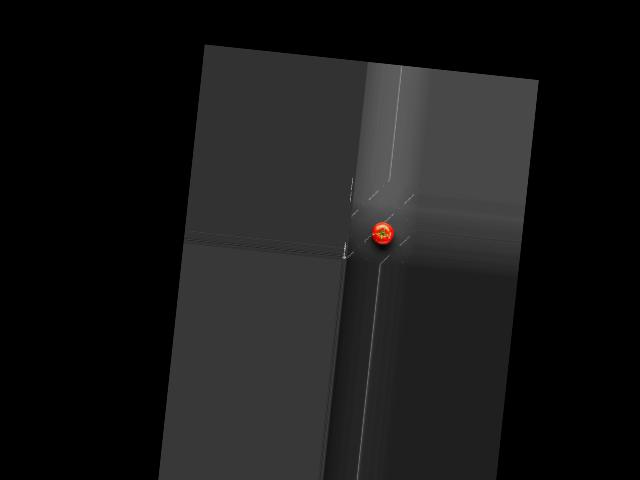tomato: (370, 220, 394, 245)
